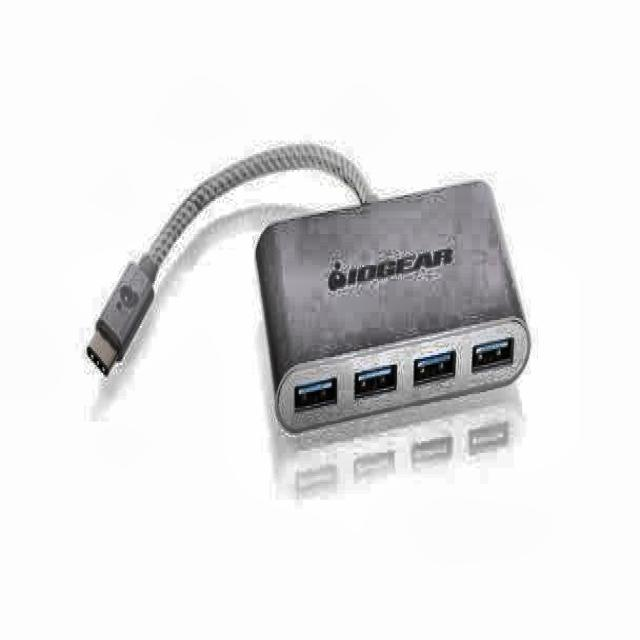HUB: (87, 144, 531, 431)
